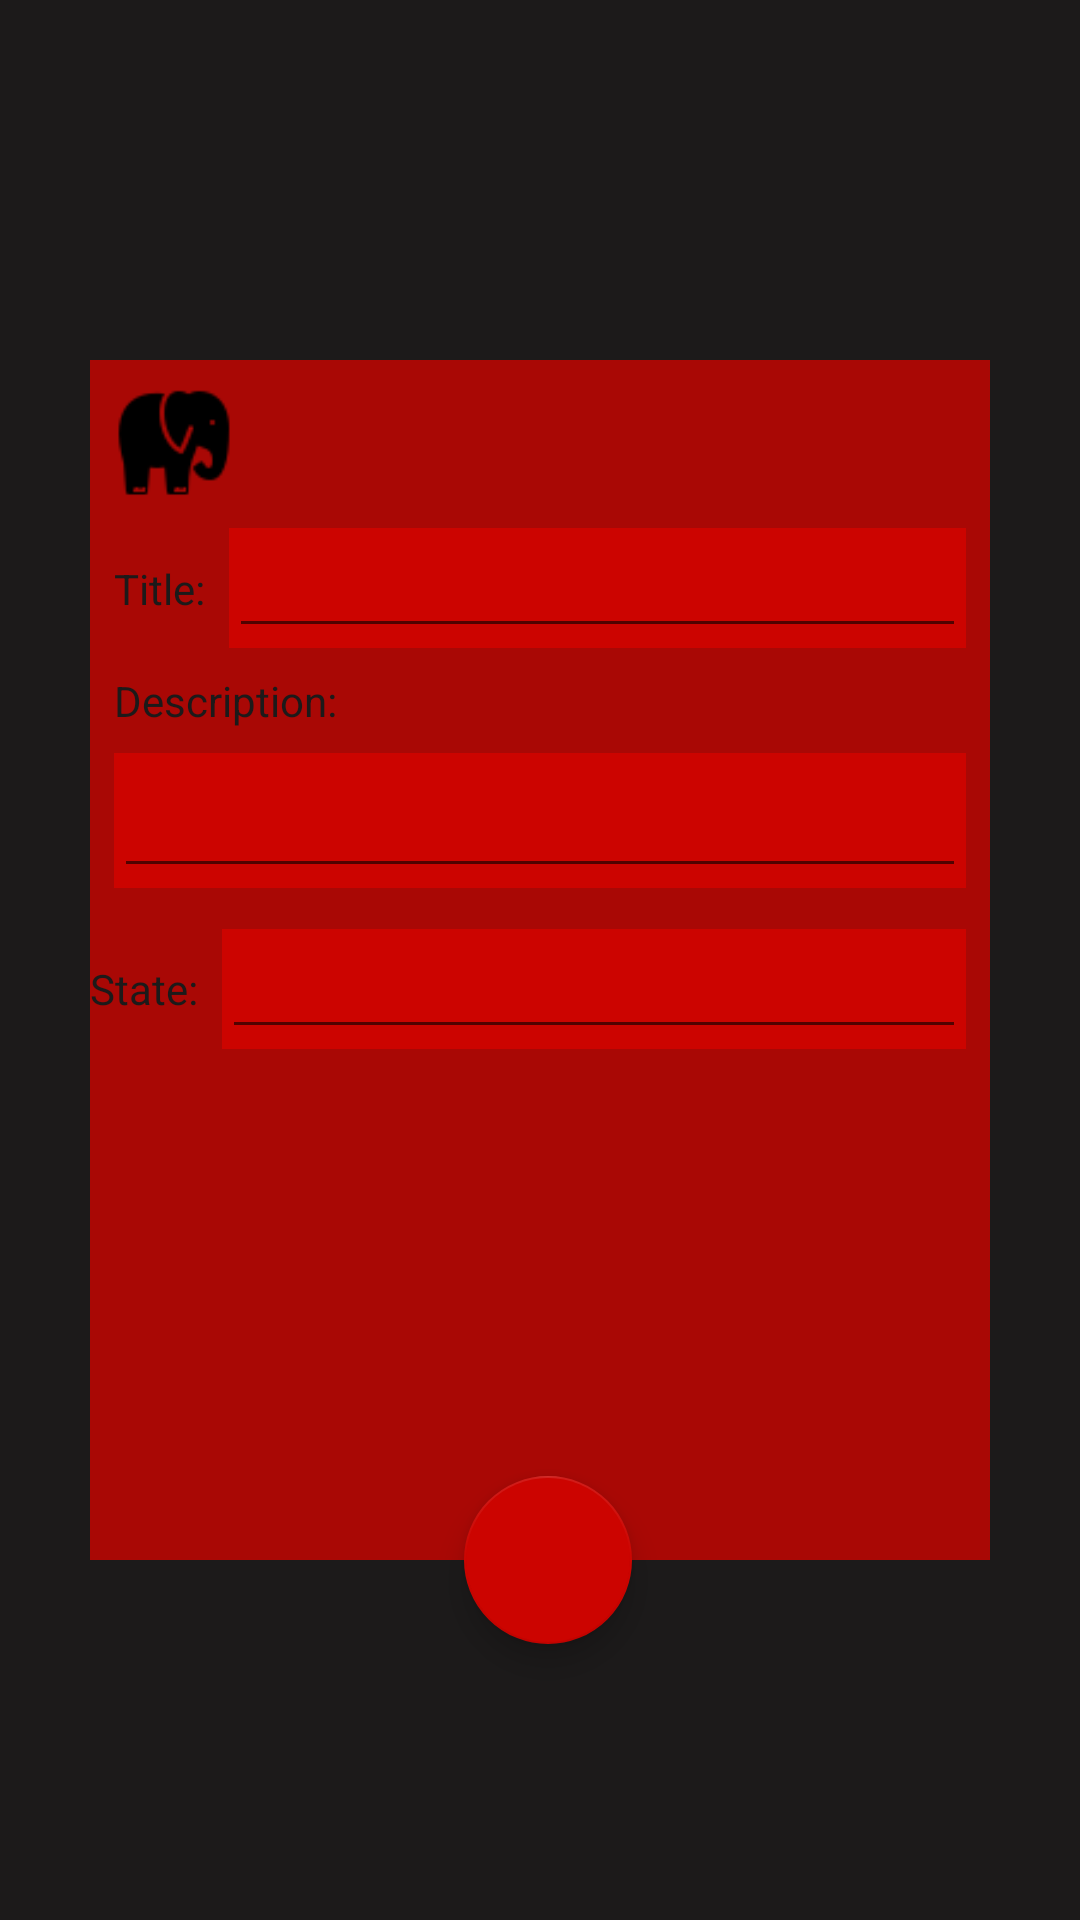

Point at icon controls on the screen. Image size 1080px×1920px, points as (x=x, y=y).
elephant: (x=174, y=442)
